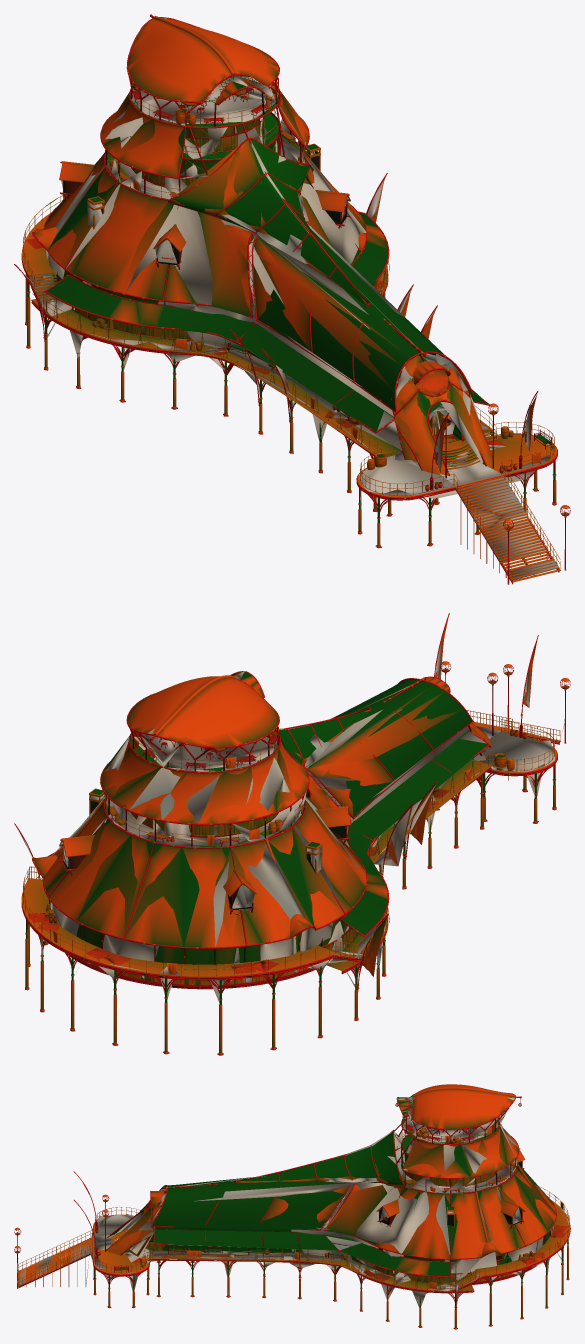
Rendered from KB3D_GAE_BldgLG_E.glb.
3 renders of one model, top to bottom at view 1: azimuth 30°, elevation 25°; view 2: azimuth 150°, elevation 25°; view 3: azimuth 270°, elevation 25°, orthographic. The views are drawn at different scales.
Parts seen in each view (by area): view 1: L0, L1, L2; view 2: L0, L1, L2; view 3: L0, L1, L2.
Boxes of the visible parts, <box> form: L0: <box>14,14,570,584</box>; L1: <box>19,19,560,584</box>; L2: <box>24,17,558,580</box>; L0: <box>14,613,570,1055</box>; L1: <box>16,645,560,999</box>; L2: <box>18,643,564,1002</box>; L0: <box>14,1084,570,1329</box>; L1: <box>18,1089,569,1306</box>; L2: <box>18,1091,569,1307</box>.
Bounding box in the file's own units: 39.4 × 29.85 × 77.79.
